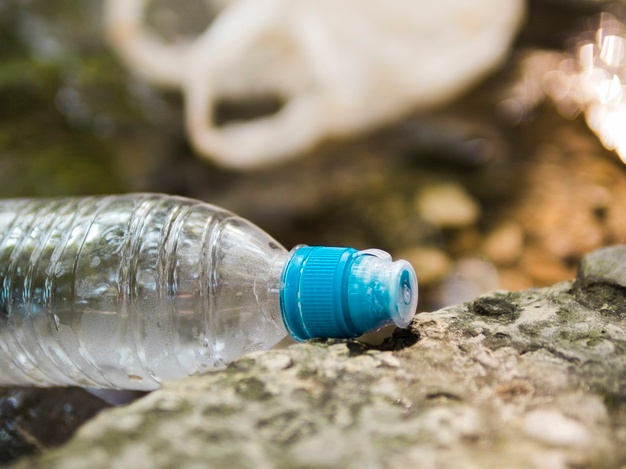plastic_bottle: (1, 112, 467, 438)
